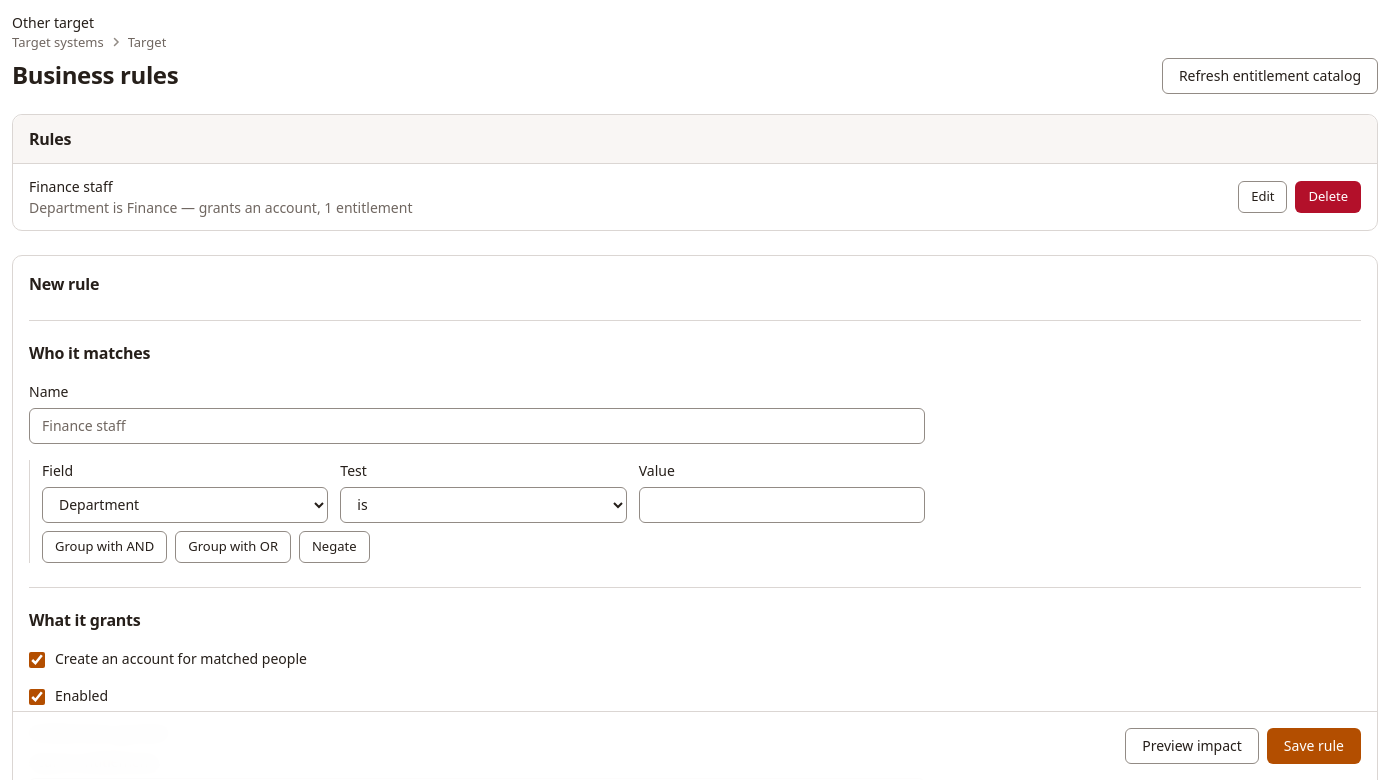
Test: BusinessRulesPage › asks the impact endpoint what this rule alone granted
The width and height of the screenshot is (1390, 780).
Click the button "Delete". click: (1328,197)
box: left=1296, top=181, right=1361, bottom=213
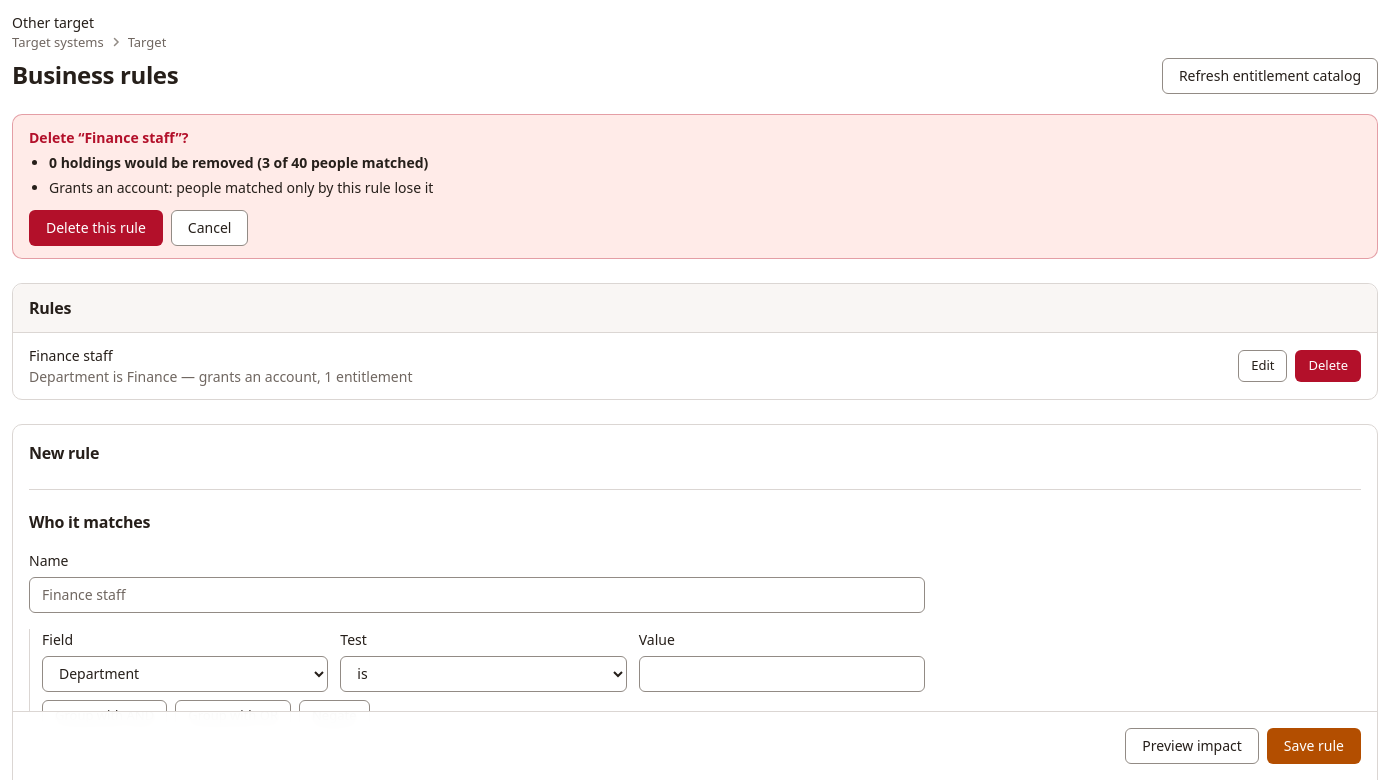
Now the list item "0 holdings would be removed (3 of 40 people matched)" is shown, box left=49, top=153, right=428, bottom=172
